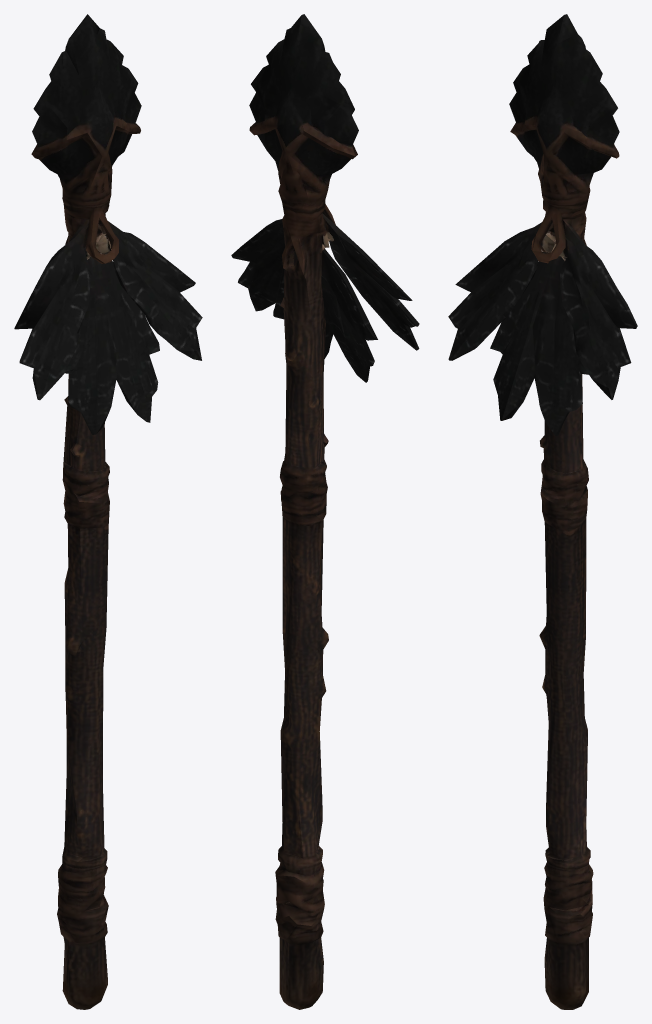
The picture shows the model from 3 angles, left to right: view 1: azimuth 30°, elevation 25°; view 2: azimuth 150°, elevation 25°; view 3: azimuth 330°, elevation 25°; orthographic projection.
Visible parts, largest first — view 1: crow-soldier-spear; view 2: crow-soldier-spear; view 3: crow-soldier-spear.
Boxes of the visible parts, x1,y1,x2,y2 form: crow-soldier-spear: [14, 14, 202, 1009]; crow-soldier-spear: [231, 14, 419, 1009]; crow-soldier-spear: [448, 14, 637, 1009].
Size of the model in its own units: 0.4115 by 2.15 by 0.214.
Materials: 1 (1 with a texture image).
